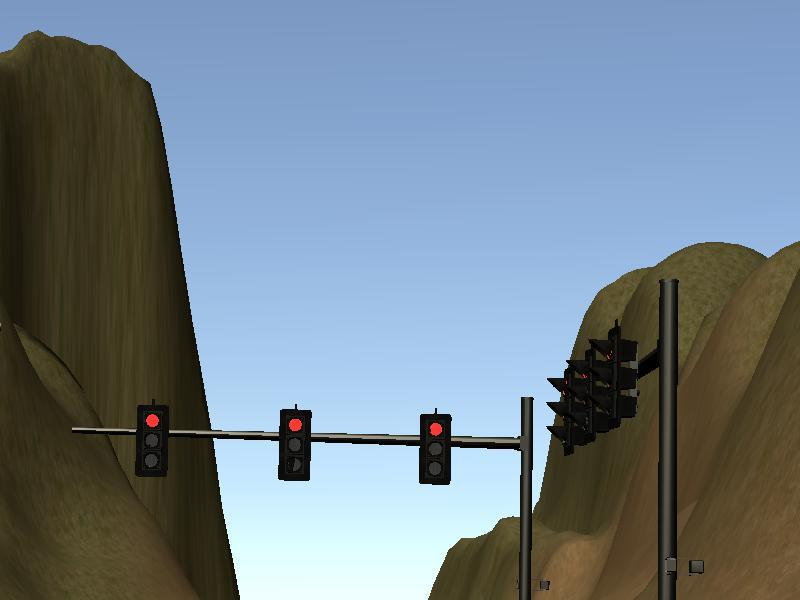Red: (281, 410, 310, 480), (138, 407, 168, 474), (421, 415, 450, 484)
